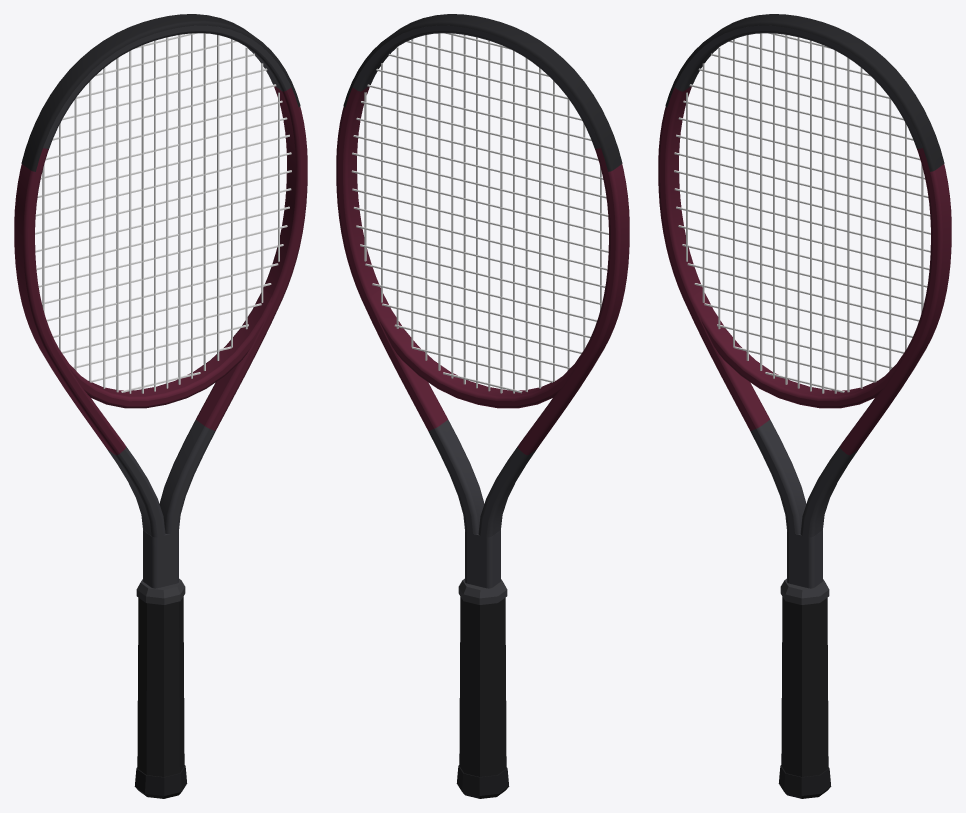
The model's file is head-prestige-pro-2023.glb.
The picture shows the model from 3 angles, left to right: view 1: azimuth 30°, elevation 25°; view 2: azimuth 150°, elevation 25°; view 3: azimuth 330°, elevation 25°; orthographic projection.
Visible parts, largest first — view 1: frame, strings_mains, strings_crosses, grip, bumper, butt_cap, collar; view 2: frame, strings_mains, strings_crosses, grip, bumper, butt_cap, collar; view 3: frame, strings_mains, strings_crosses, grip, bumper, butt_cap, collar.
Boxes of the visible parts, x1,y1,x2,y2 form: frame: (14, 25, 307, 588); strings_mains: (42, 33, 279, 393); strings_crosses: (35, 33, 291, 392); grip: (137, 596, 184, 776); bumper: (21, 14, 300, 171); butt_cap: (134, 765, 187, 798); collar: (136, 578, 185, 604); frame: (336, 25, 629, 588); strings_mains: (364, 33, 601, 393); strings_crosses: (351, 33, 608, 393); grip: (459, 596, 506, 776); bumper: (343, 14, 622, 171); butt_cap: (456, 765, 509, 798); collar: (458, 578, 507, 604); frame: (658, 25, 951, 588); strings_mains: (686, 33, 923, 393); strings_crosses: (674, 33, 930, 392); grip: (781, 596, 828, 776); bumper: (665, 14, 944, 171); butt_cap: (778, 765, 831, 798); collar: (780, 578, 829, 604).
Bounding box in the file's own units: 0.2662 × 0.6861 × 0.0396.
